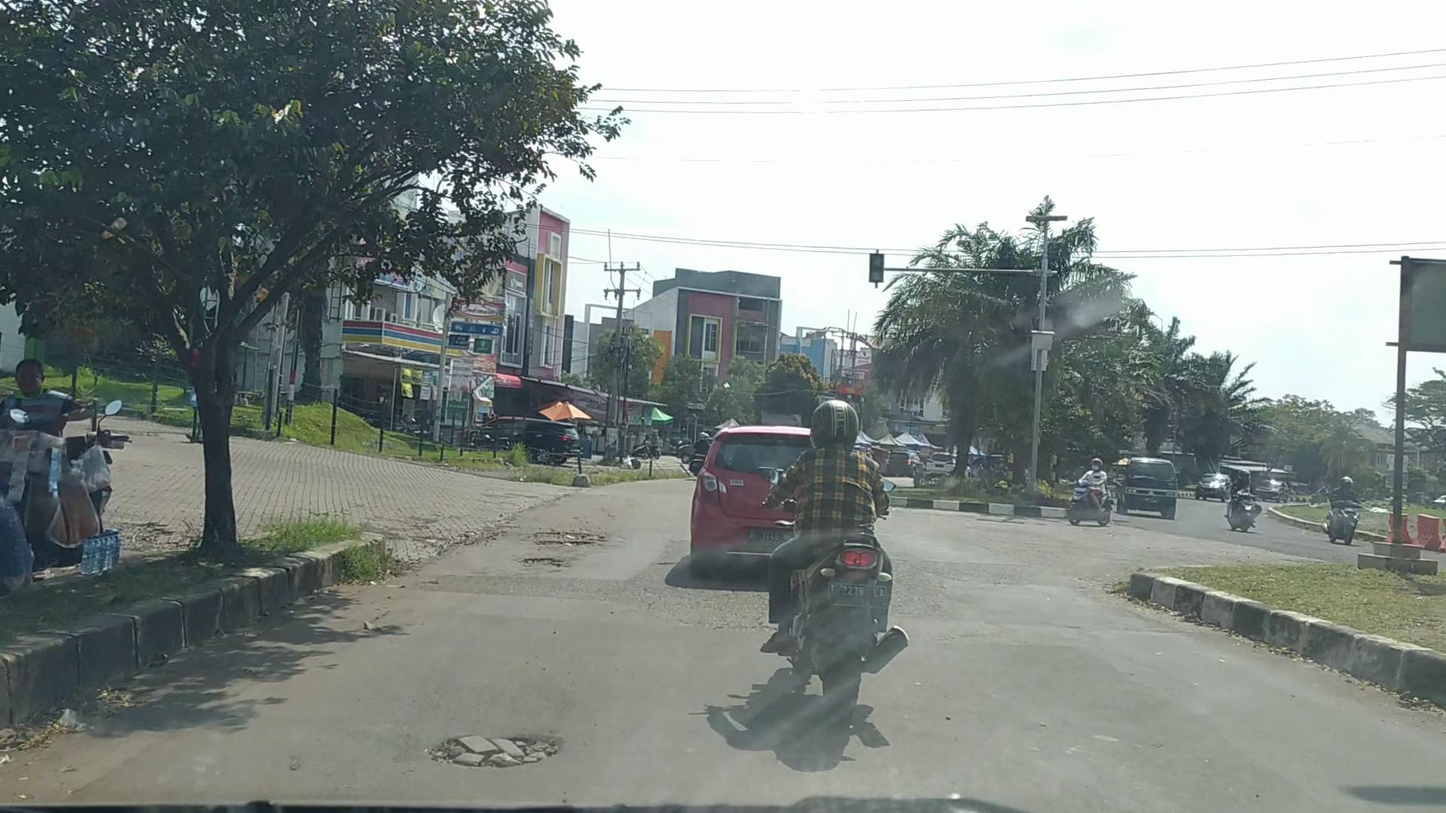pothole: (421, 732, 567, 770), (531, 529, 607, 546), (519, 556, 565, 570)
